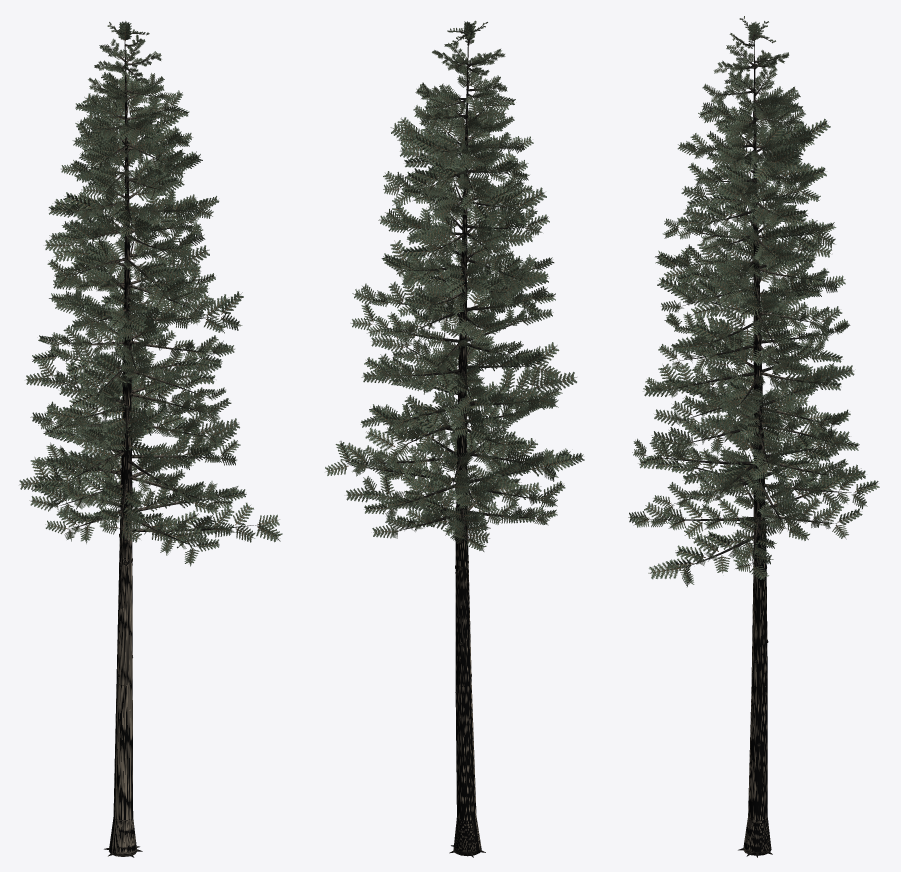
Rendered from Sitka_OldLarge_01_MediumPruned_Healed_LOD0.fbx.
3 renders of one model, left to right at view 1: azimuth 30°, elevation 25°; view 2: azimuth 150°, elevation 25°; view 3: azimuth 270°, elevation 25°, orthographic.
Visible parts, largest first — view 1: Sitka_OldLarge_01_MediumPruned_Healed_LOD0; view 2: Sitka_OldLarge_01_MediumPruned_Healed_LOD0; view 3: Sitka_OldLarge_01_MediumPruned_Healed_LOD0.
Part boxes in pixels (<box>): Sitka_OldLarge_01_MediumPruned_Healed_LOD0: <box>19,21,282,857</box>; Sitka_OldLarge_01_MediumPruned_Healed_LOD0: <box>325,20,584,857</box>; Sitka_OldLarge_01_MediumPruned_Healed_LOD0: <box>628,16,879,857</box>.
Size of the model in its own units: 898 by 3200 by 927.
Materials: 3 (3 with a texture image).
